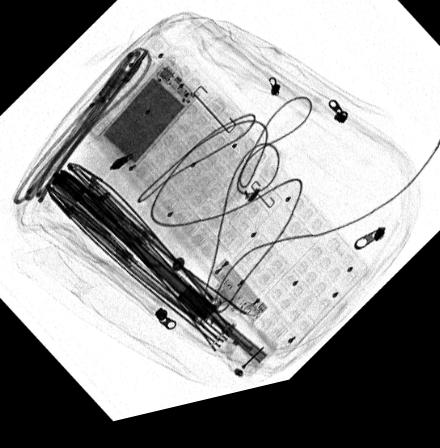Powerbank: (96, 66, 201, 176)
